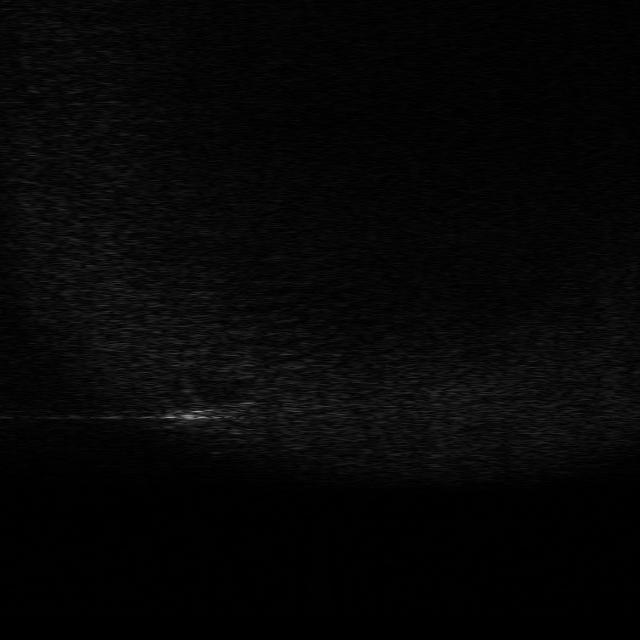plane: (162, 386, 256, 435)
